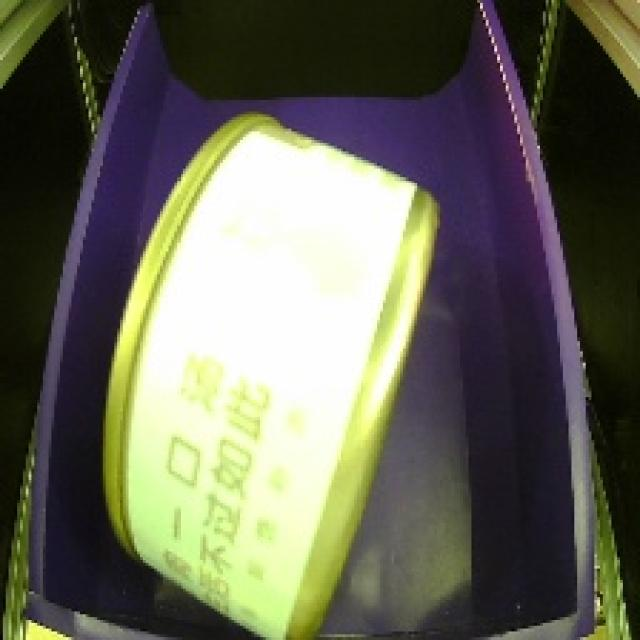metal: (90, 96, 454, 636)
